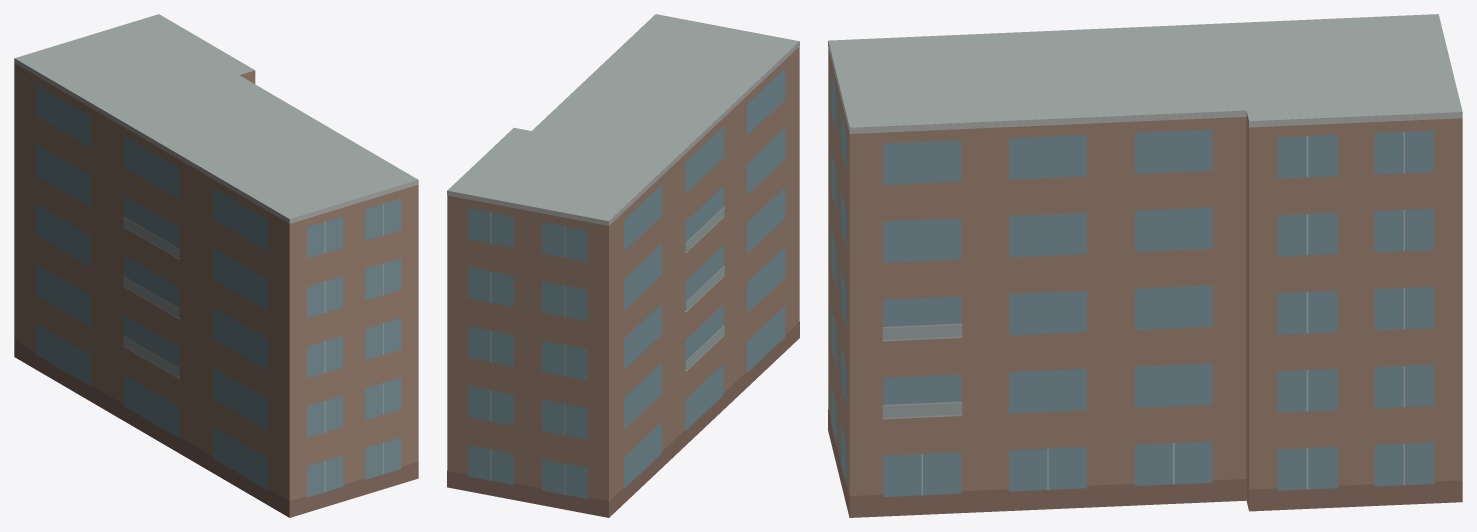
The model's file is survey-upis-32614063.glb.
The picture shows the model from 3 angles, left to right: view 1: azimuth 30°, elevation 25°; view 2: azimuth 150°, elevation 25°; view 3: azimuth 270°, elevation 25°; orthographic projection. The views are drawn at different scales.
Parts seen in each view (by area): view 1: survey-upis-32614063.tmp; view 2: survey-upis-32614063.tmp; view 3: survey-upis-32614063.tmp.
Boxes of the visible parts, bbox=[...] form: survey-upis-32614063.tmp: bbox=[14, 14, 418, 517]; survey-upis-32614063.tmp: bbox=[447, 14, 799, 517]; survey-upis-32614063.tmp: bbox=[828, 14, 1462, 517].
Bounding box in the file's own units: 9.52 × 15.2 × 22.42.
